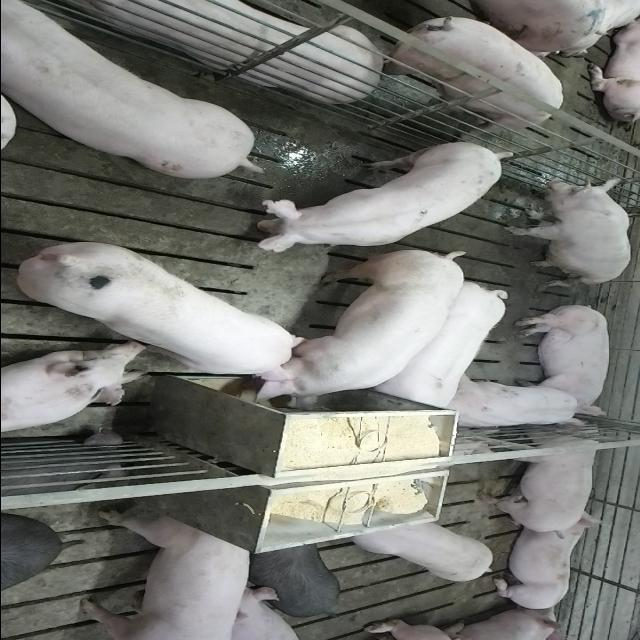Feeding: (15, 240, 308, 388), (244, 252, 466, 416)
Lateral_lying: (512, 302, 612, 418)
Sitting: (502, 176, 633, 286)
Standing: (0, 5, 259, 182), (236, 138, 510, 248), (73, 508, 255, 638), (376, 9, 564, 130), (372, 280, 512, 410), (472, 421, 610, 535), (348, 516, 498, 584), (241, 542, 342, 620)
Sternal_lying: (44, 0, 381, 100), (0, 346, 147, 436), (484, 518, 605, 614), (442, 378, 592, 433)
